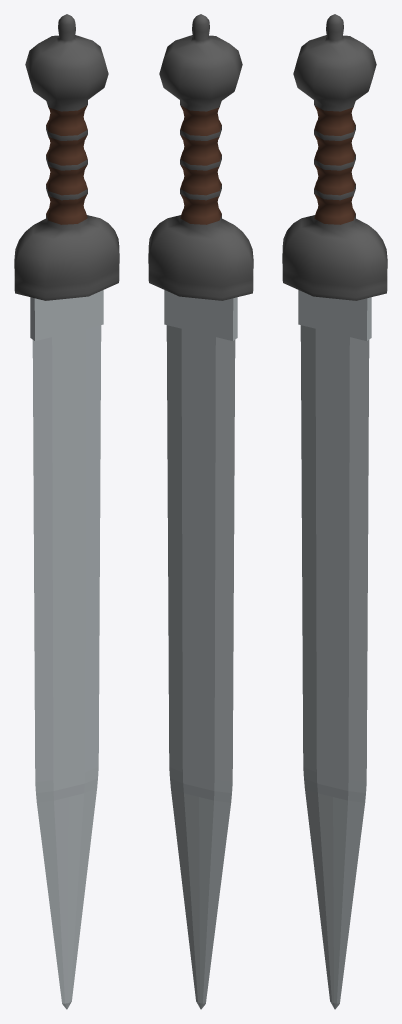
Rendered from centurion sword.fbx.
The picture shows the model from 3 angles, left to right: view 1: azimuth 30°, elevation 25°; view 2: azimuth 150°, elevation 25°; view 3: azimuth 330°, elevation 25°; orthographic projection.
Parts seen in each view (by area): view 1: Blade, Handle; view 2: Blade, Handle; view 3: Blade, Handle.
Boxes of the visible parts, box(x1,y1,x2,y2) form: Blade: box(30, 290, 103, 1009); Handle: box(14, 14, 119, 300); Blade: box(164, 290, 237, 1009); Handle: box(148, 14, 253, 300); Blade: box(298, 290, 371, 1009); Handle: box(282, 14, 387, 300).
Size of the model in its own units: 106 by 964 by 76.56.
